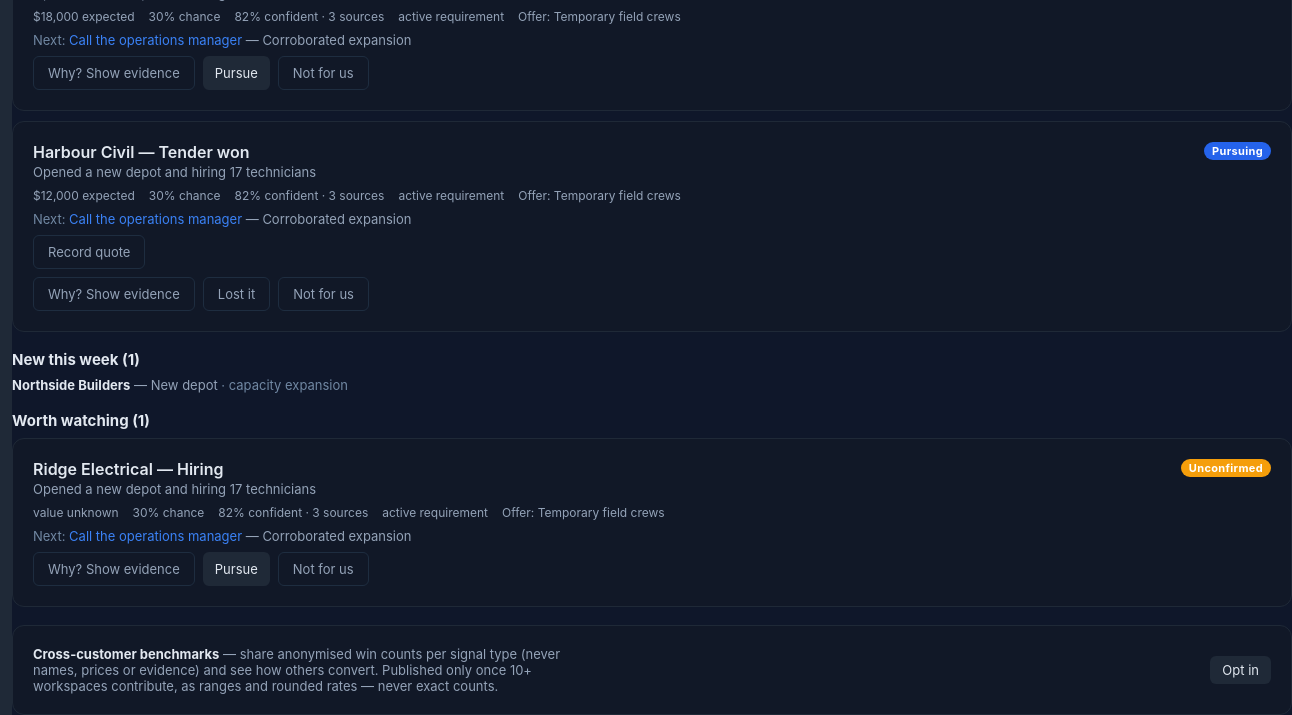
Test: Today › network: not opted in offers opt-in; opting in sends the choice
(page scrolled)
Click the button "Opt in" at (1241, 670), box x1=1210 y1=656 x2=1271 y2=684
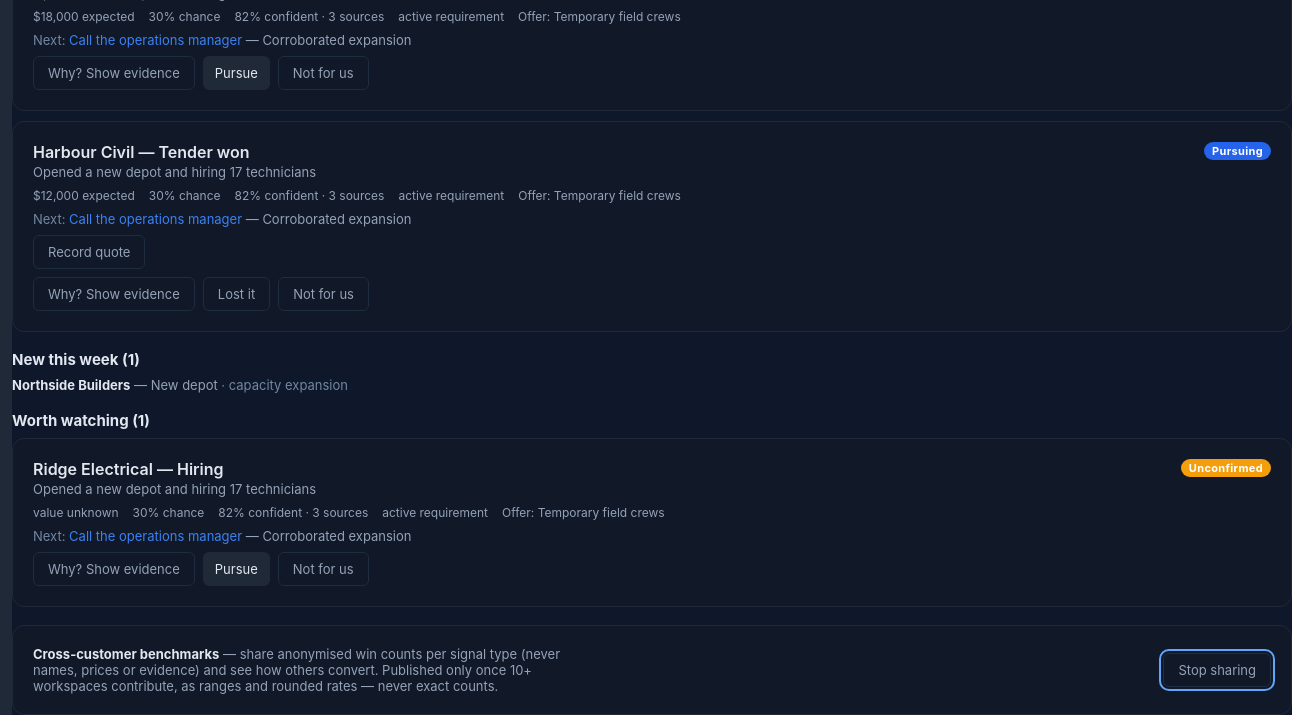
Now the button "Stop sharing" is shown, box x1=1163 y1=653 x2=1271 y2=687
